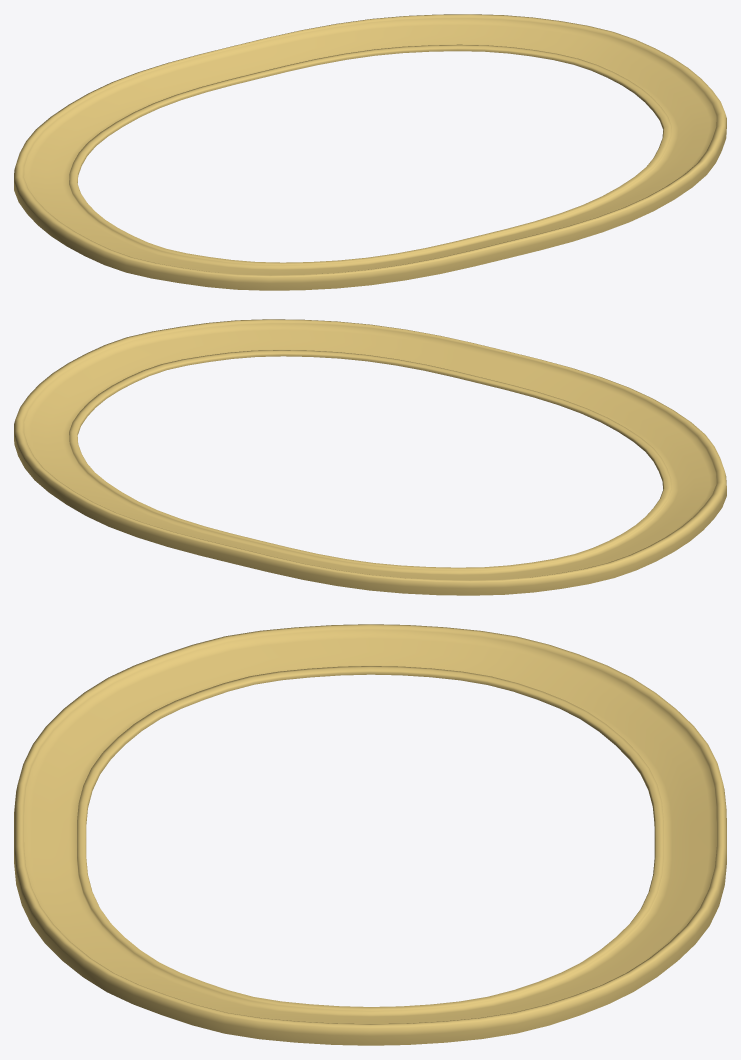
The model's file is Oval  Frame.fbx.
3 views of the same model, one above another, from view 1: azimuth 30°, elevation 25°; view 2: azimuth 150°, elevation 25°; view 3: azimuth 270°, elevation 25° (orthographic). The views are drawn at different scales.
Parts seen in each view (by area): view 1: pPlane1; view 2: pPlane1; view 3: pPlane1.
Boxes of the visible parts, bbox=[...] form: pPlane1: bbox=[14, 14, 726, 290]; pPlane1: bbox=[14, 319, 726, 595]; pPlane1: bbox=[14, 624, 726, 1045].
Size of the model in its own units: 43.48 by 0.912 by 32.27.
